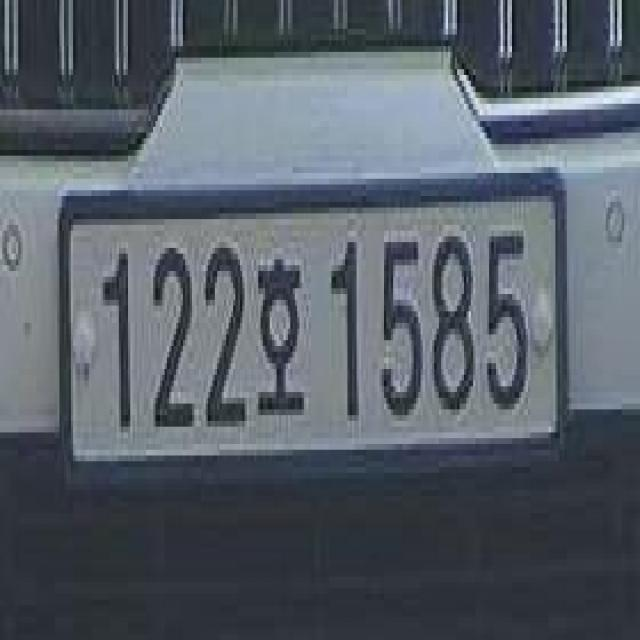illegal_plate: (59, 168, 565, 494)
